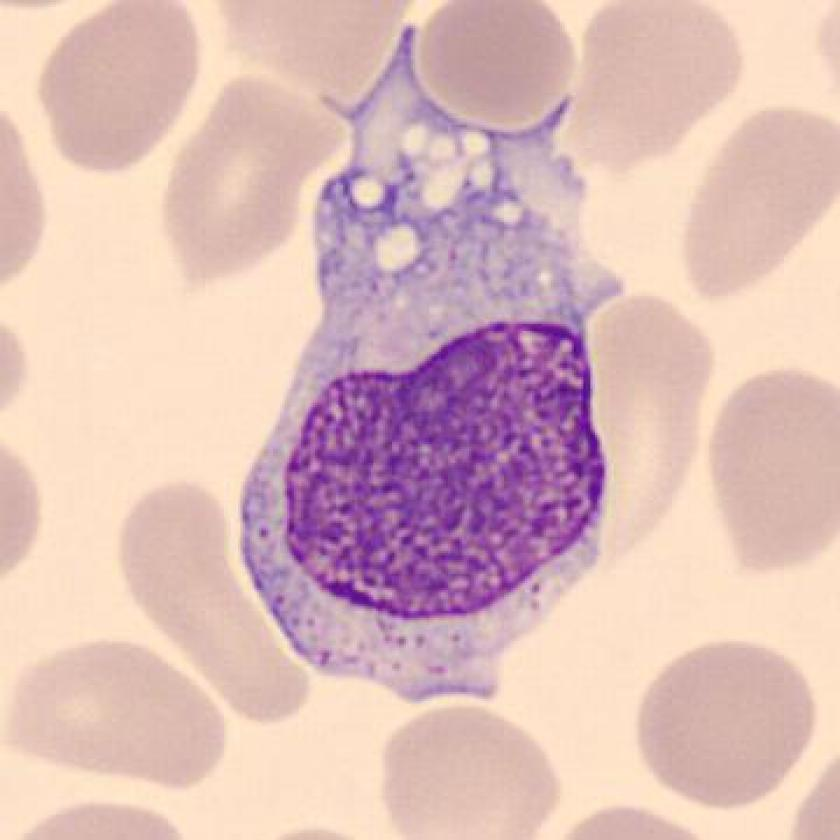monocyte: (225, 15, 650, 709)
